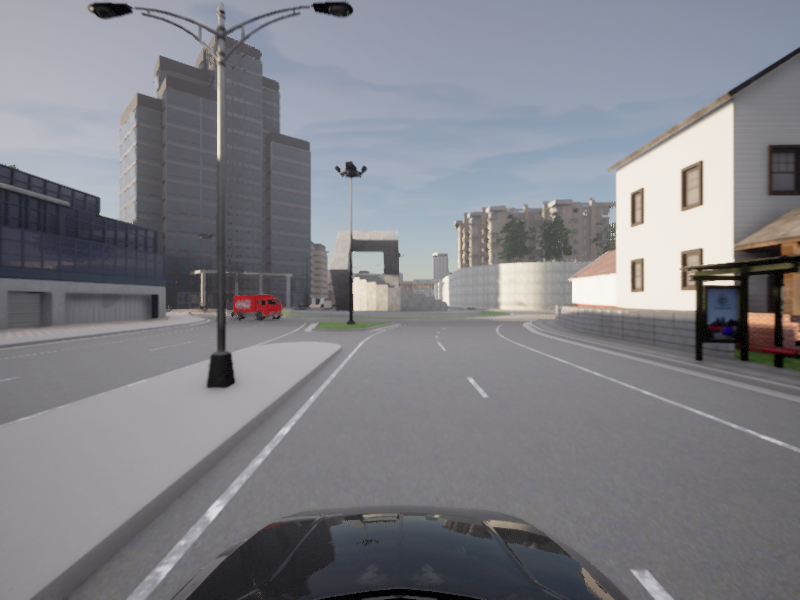vehicle: (230, 294, 287, 321)
